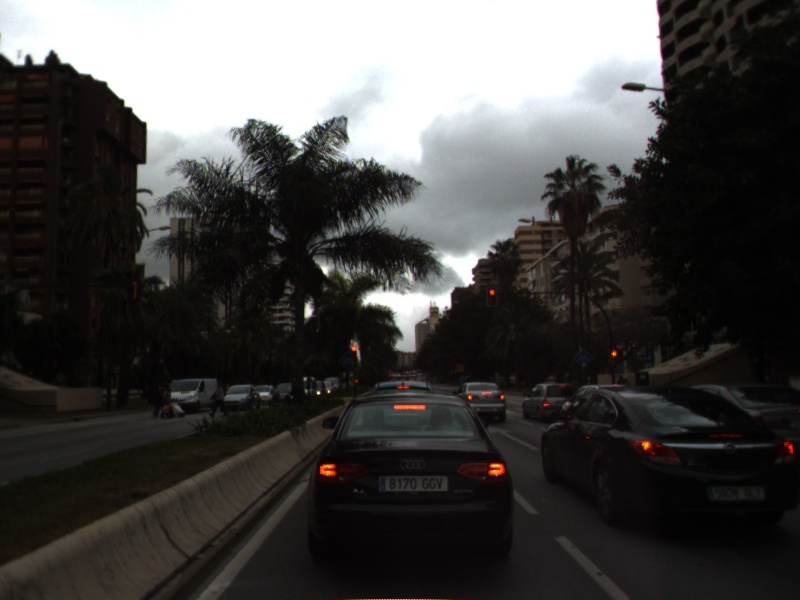STRAIGHT: (486, 423, 542, 452)
